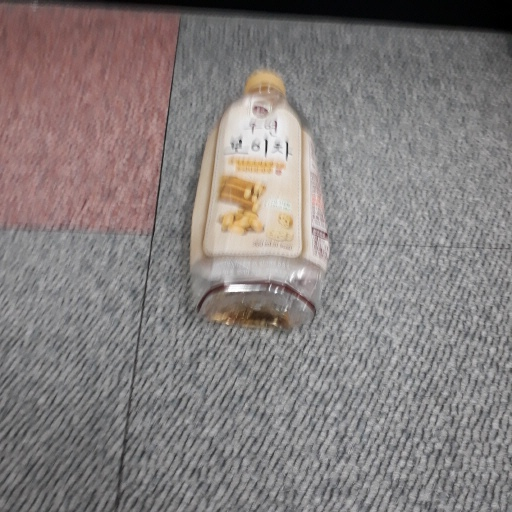Plastic_0: (185, 68, 331, 334)
